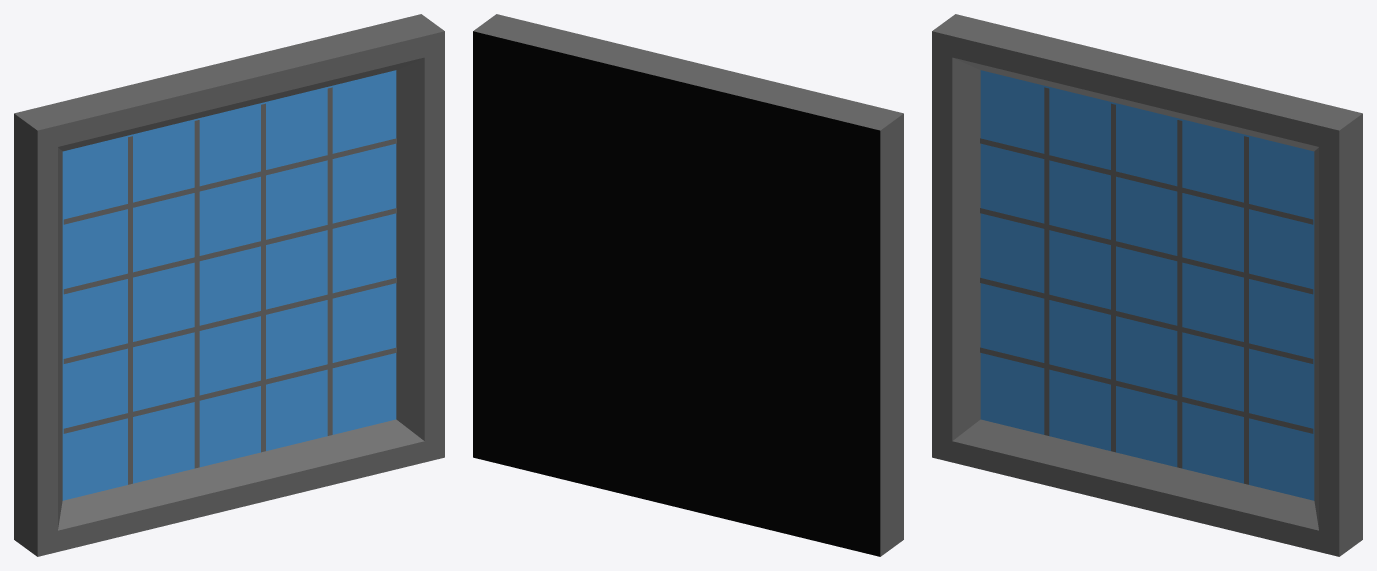
The model's file is ShipPanel.fbx.
The picture shows the model from 3 angles, left to right: view 1: azimuth 30°, elevation 25°; view 2: azimuth 150°, elevation 25°; view 3: azimuth 330°, elevation 25°; orthographic projection.
Parts seen in each view (by area): view 1: ShipPanel; view 2: ShipPanel; view 3: ShipPanel.
Boxes of the visible parts, x1=… form: ShipPanel: x1=14, y1=14, x2=444, y2=556; ShipPanel: x1=473, y1=14, x2=903, y2=556; ShipPanel: x1=932, y1=14, x2=1362, y2=556.
Bounding box in the file's own units: 200 × 200 × 20.
